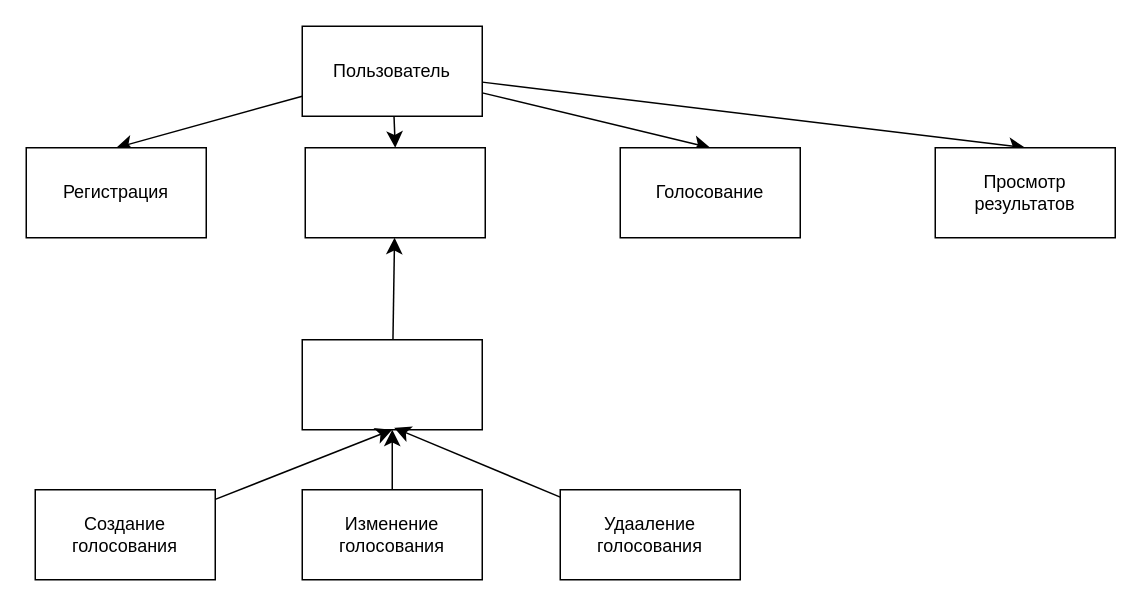
Some shapes in this 1142 by 606 pixel diagram are drawn without their labels. The shapes that lost their labels are listed below. From the top down, each one's box as (x1, y1, x2, y2) in pixels, then its label:
(304, 146, 485, 238): Вход
(301, 338, 482, 430): Администратор
